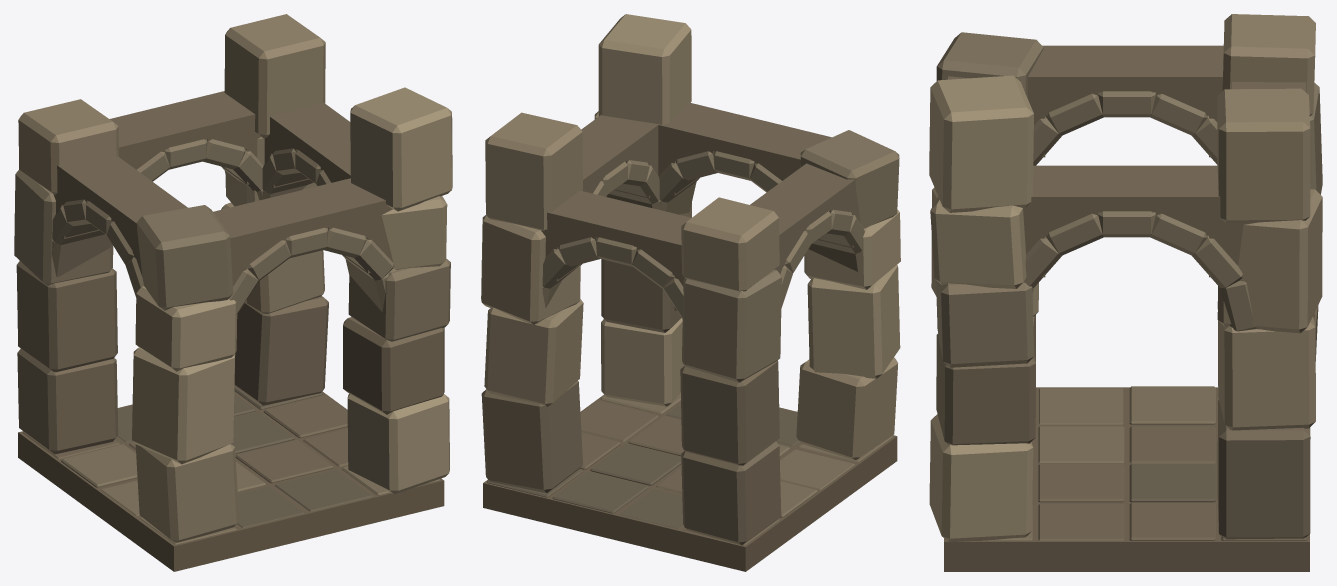
Rendered from cripta-incrocio.glb.
3 renders of one model, left to right at view 1: azimuth 30°, elevation 25°; view 2: azimuth 150°, elevation 25°; view 3: azimuth 270°, elevation 25°, orthographic. The views are drawn at different scales.
Visible parts, largest first — view 1: cripta-incrocio2; view 2: cripta-incrocio2; view 3: cripta-incrocio2.
Part boxes in pixels (box(x1,y1,x2,y2)): cripta-incrocio2: box(14, 14, 452, 571); cripta-incrocio2: box(481, 14, 900, 571); cripta-incrocio2: box(929, 14, 1322, 571).
Bounding box in the file's own units: 4.4 × 5.58 × 4.3.
